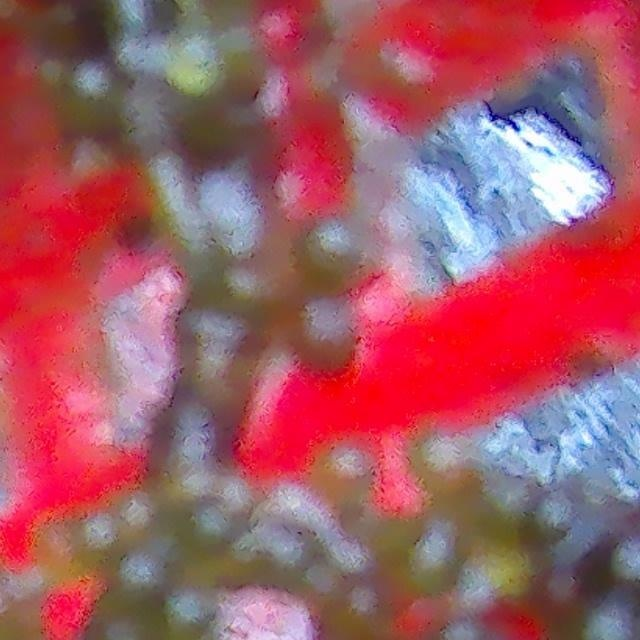SeaGrape: (287, 299, 361, 375), (301, 225, 369, 287), (334, 580, 394, 640)
